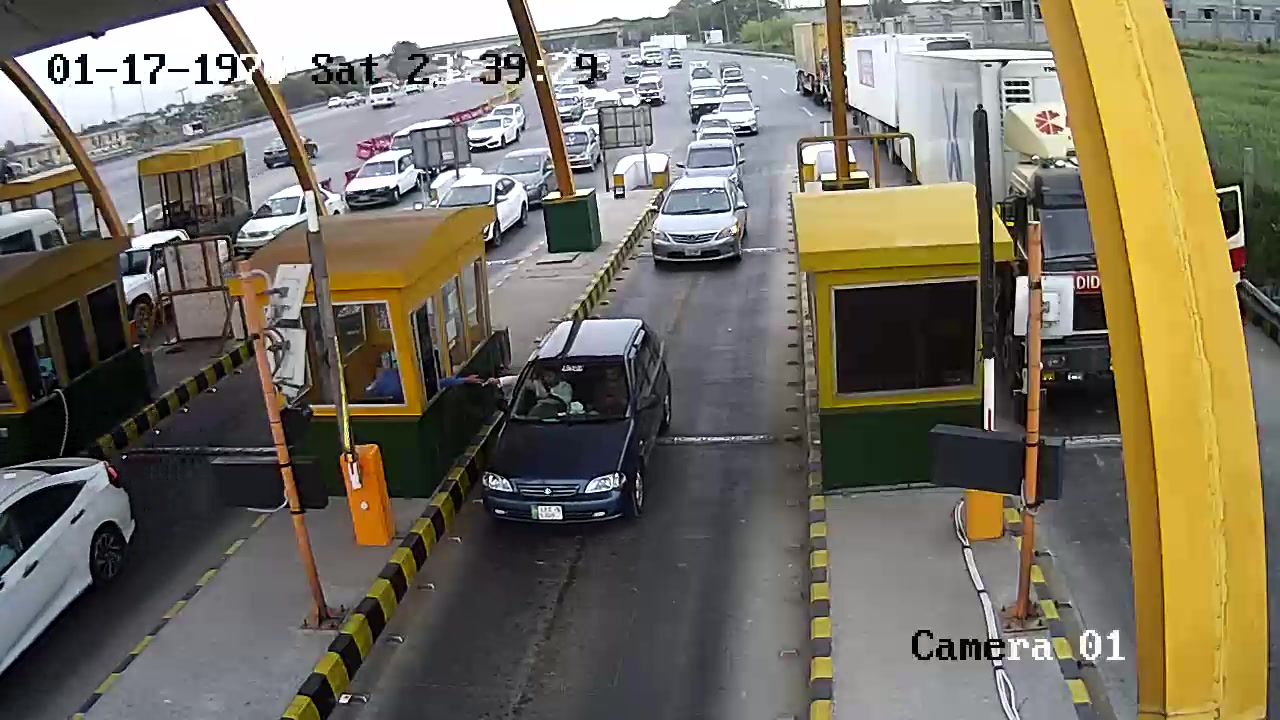F1: (483, 305, 676, 544)
